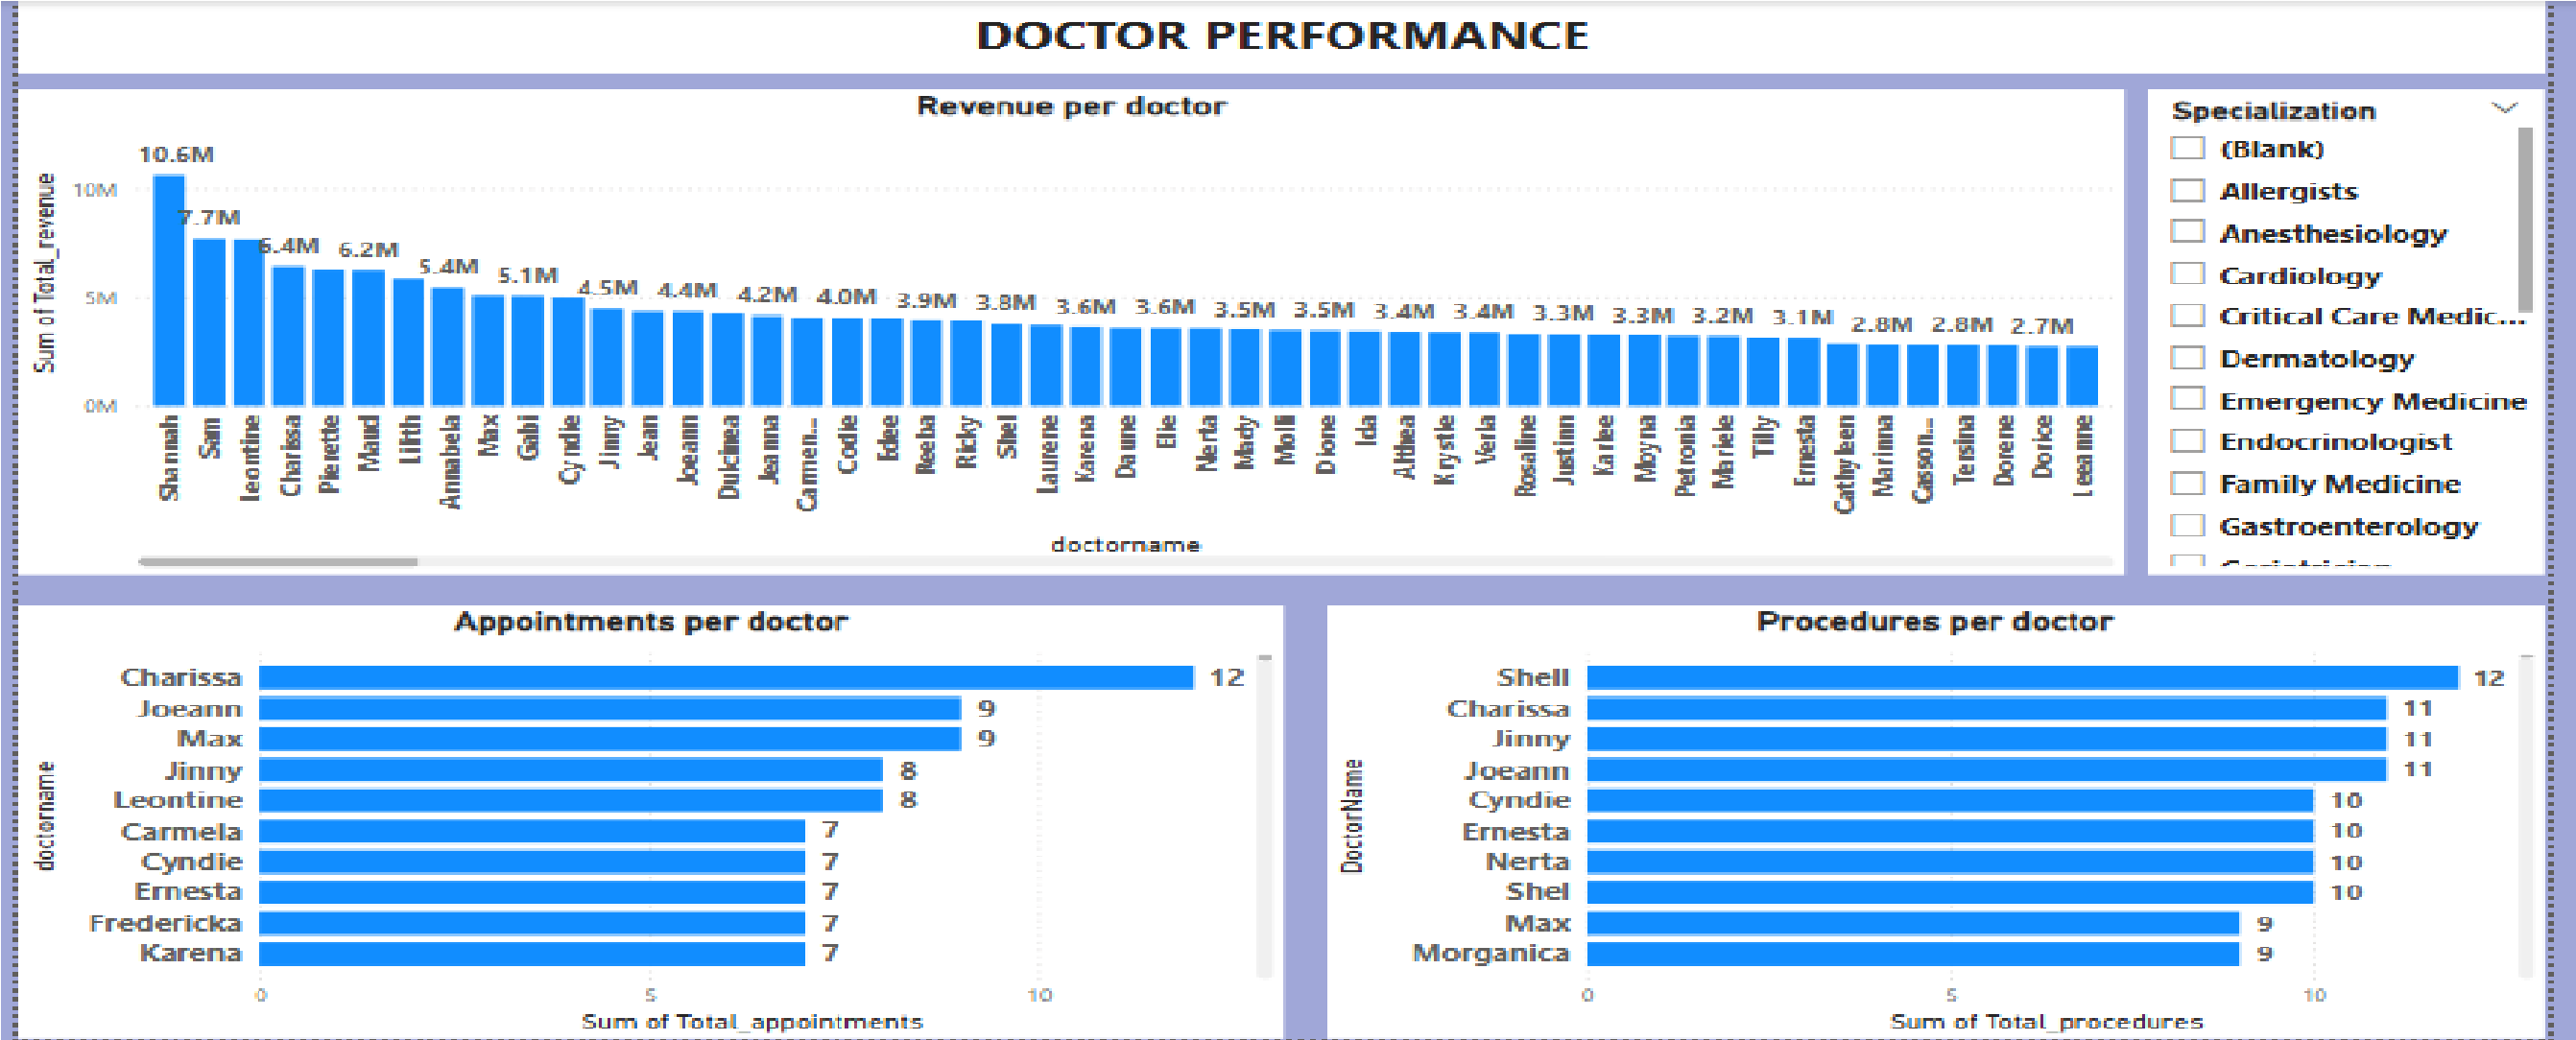

The dashboard page shown, as its layout file describes it:
{"tool":"powerbi","page":{"name":"Doctor Performance","canvas":[1280,720],"ordinal":5},"visuals":[{"type":"textbox","box":[0,0,1279.8,51.4],"z":0},{"type":"clusteredBarChart","title":"Appointments per doctor","fields":{"Category":["hospital vw_doctor_appointments.doctorname"],"Y":["Sum(hospital vw_doctor_appointments.Total_appointments)"]},"box":[0,418.8,640.7,301.2],"z":1000},{"type":"clusteredColumnChart","title":"Revenue per doctor","fields":{"Category":["hospital vw_doctor_revenue.doctorname"],"Y":["Sum(hospital vw_doctor_revenue.Total_revenue)"]},"box":[0,61.7,1066.8,336.5],"z":2000},{"type":"clusteredBarChart","title":"Procedures per doctor","fields":{"Category":["hospital vw_doctor_performance.DoctorName"],"Y":["Sum(hospital vw_doctor_performance.Total_procedures)"]},"box":[662.7,418.8,617.1,301.2],"z":3000},{"type":"slicer","fields":{"Values":["hospital vw_doctor_performance.Specialization"]},"box":[1078.5,61.7,201.3,336.5],"z":4000}]}

Visuals, with their boxes on the page's 1280x720 design canvas (x1, y1, x2, y2). These are canvas units, not pixel positions in the 2576x1040 screenshot, which may show the page scaled, cropped or inside an application window:
textbox: (x1=0, y1=0, x2=1280, y2=51)
"Appointments per doctor" clusteredBarChart: (x1=0, y1=419, x2=641, y2=720)
"Revenue per doctor" clusteredColumnChart: (x1=0, y1=62, x2=1067, y2=398)
"Procedures per doctor" clusteredBarChart: (x1=663, y1=419, x2=1280, y2=720)
slicer - hospital vw_doctor_performance.Specialization: (x1=1078, y1=62, x2=1280, y2=398)
